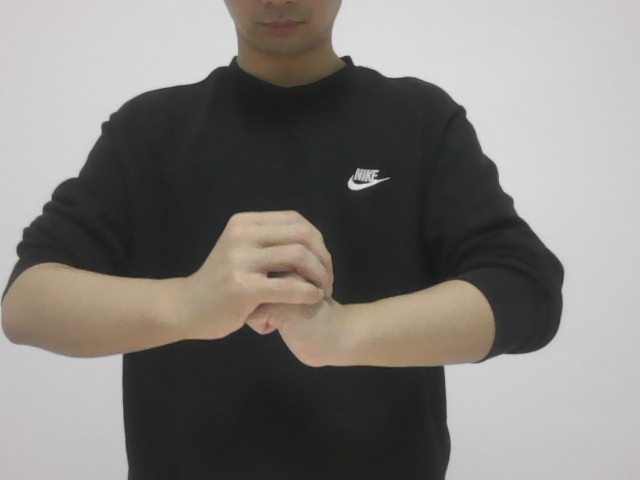wish: (193, 206, 350, 371)
